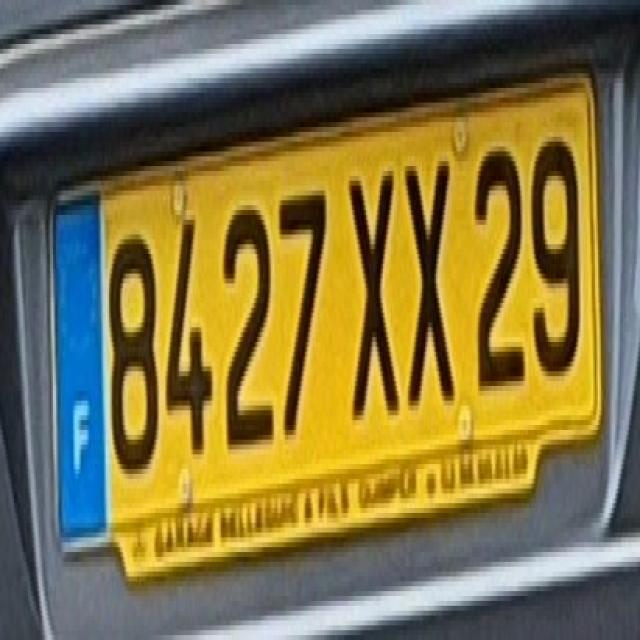EU: (42, 58, 608, 576)
France: (55, 194, 106, 545)
